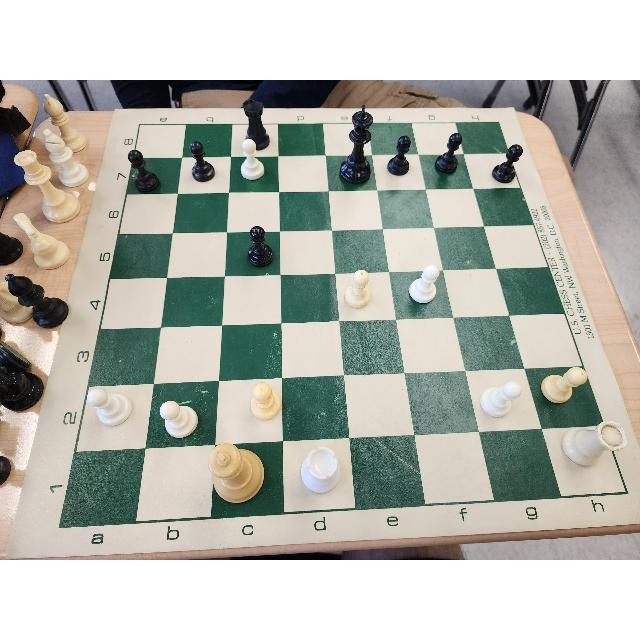black-king: (341, 104, 373, 187)
black-pawn: (433, 131, 464, 181), (185, 138, 216, 187), (491, 141, 523, 188), (126, 150, 160, 194), (242, 226, 274, 268), (386, 133, 412, 177)
black-rook: (240, 99, 271, 150)
white-king: (207, 441, 269, 506)
white-pawn: (151, 390, 201, 442), (84, 386, 135, 432), (539, 366, 589, 410), (482, 379, 523, 421), (244, 381, 282, 424), (236, 137, 268, 181), (407, 263, 439, 307), (343, 268, 373, 311)
white-rook: (564, 421, 626, 469), (299, 444, 341, 497)
